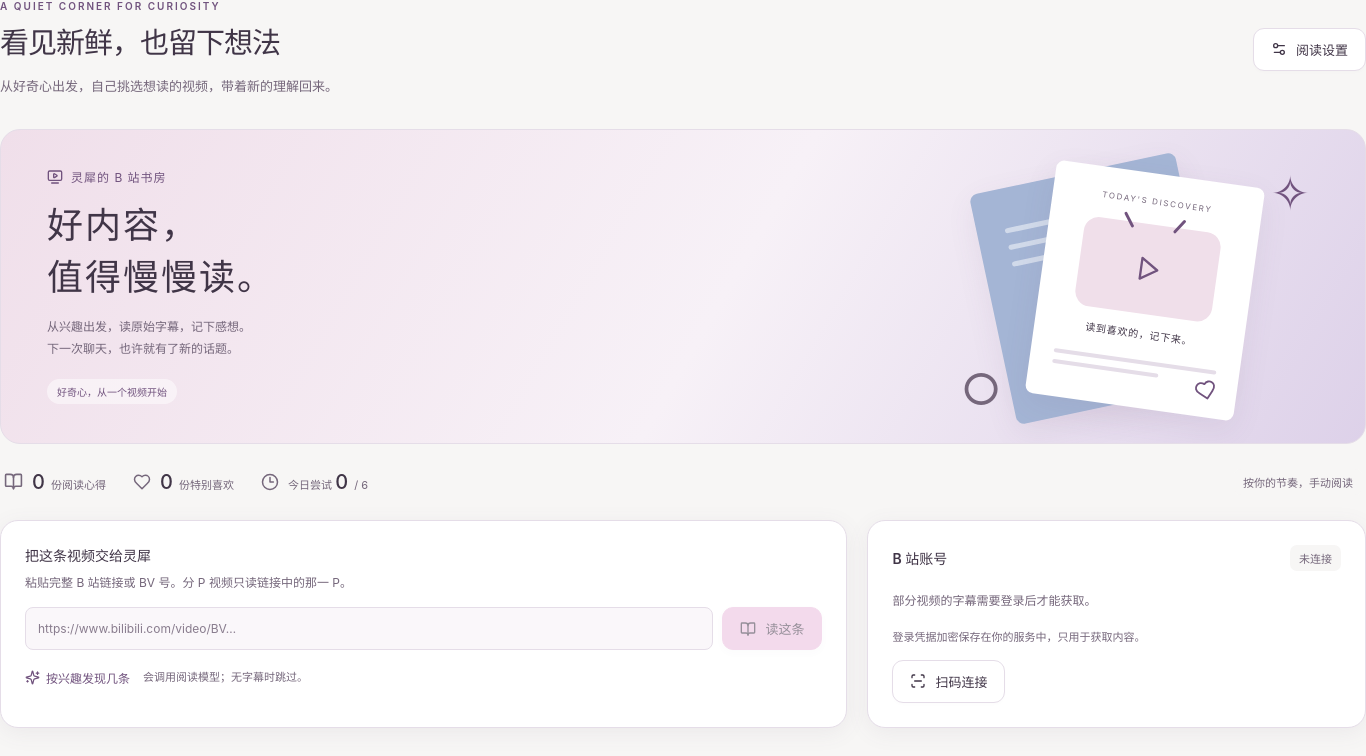
Test case: preserves failed video input and reports a real error instead of showing success
Type "BV1xx411c7mD" into the field with id "bili-video" at (369, 629), box [25,607,714,650]
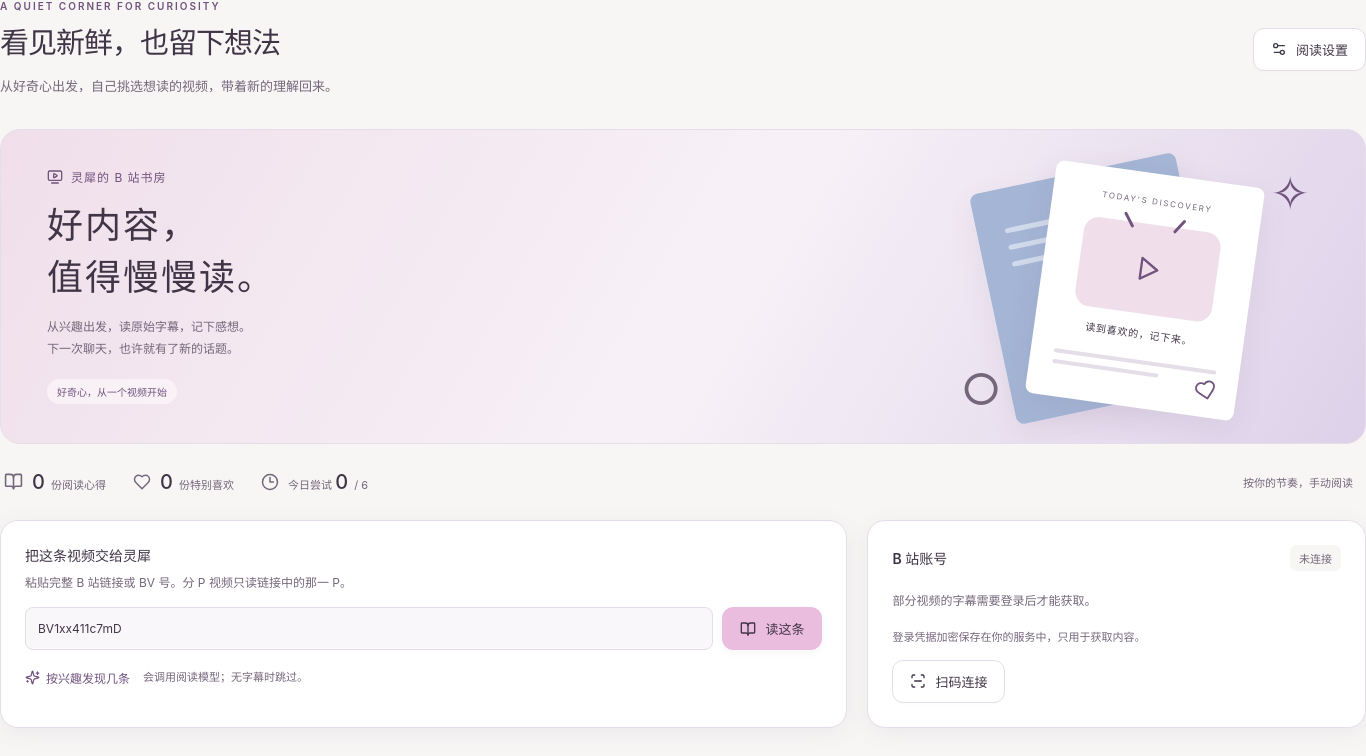
Submit the form, box [25,607,822,650]
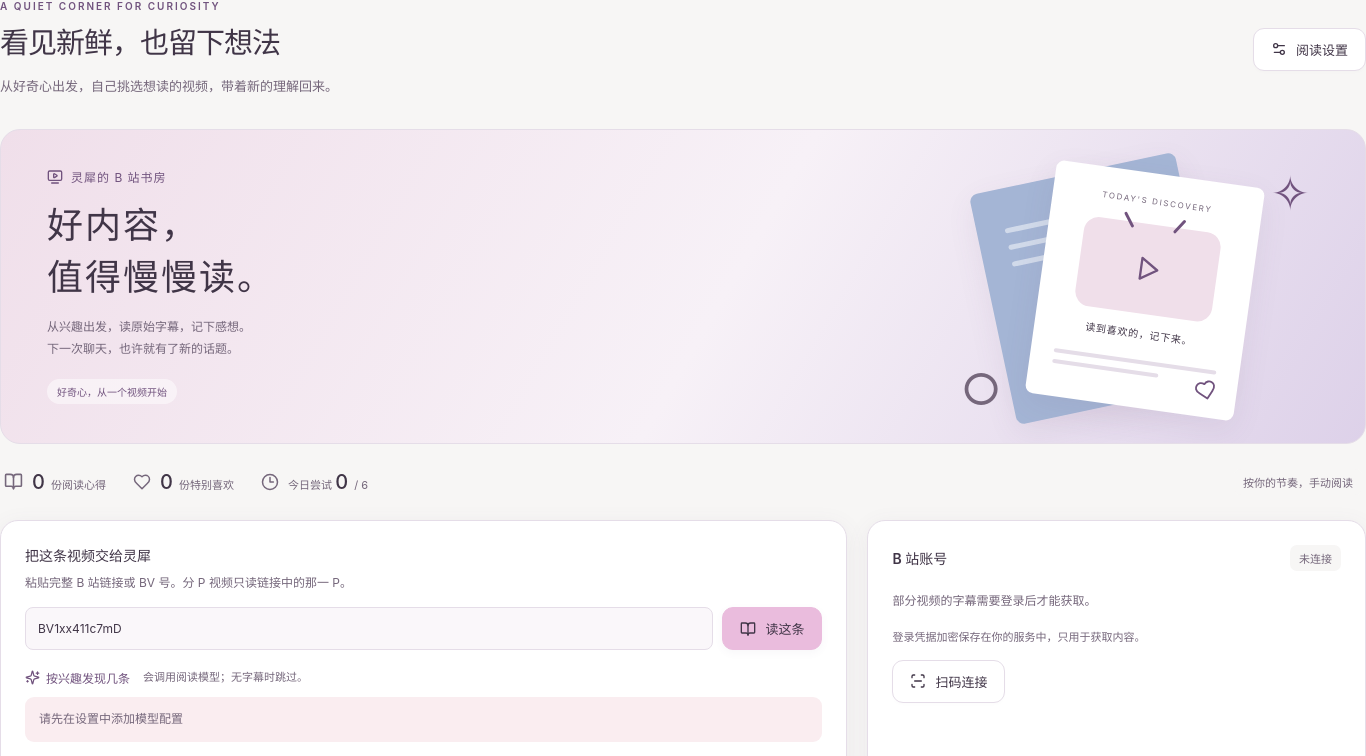
Expected: the message "请先在设置中添加模型配置" is shown, [25,697,822,742]
